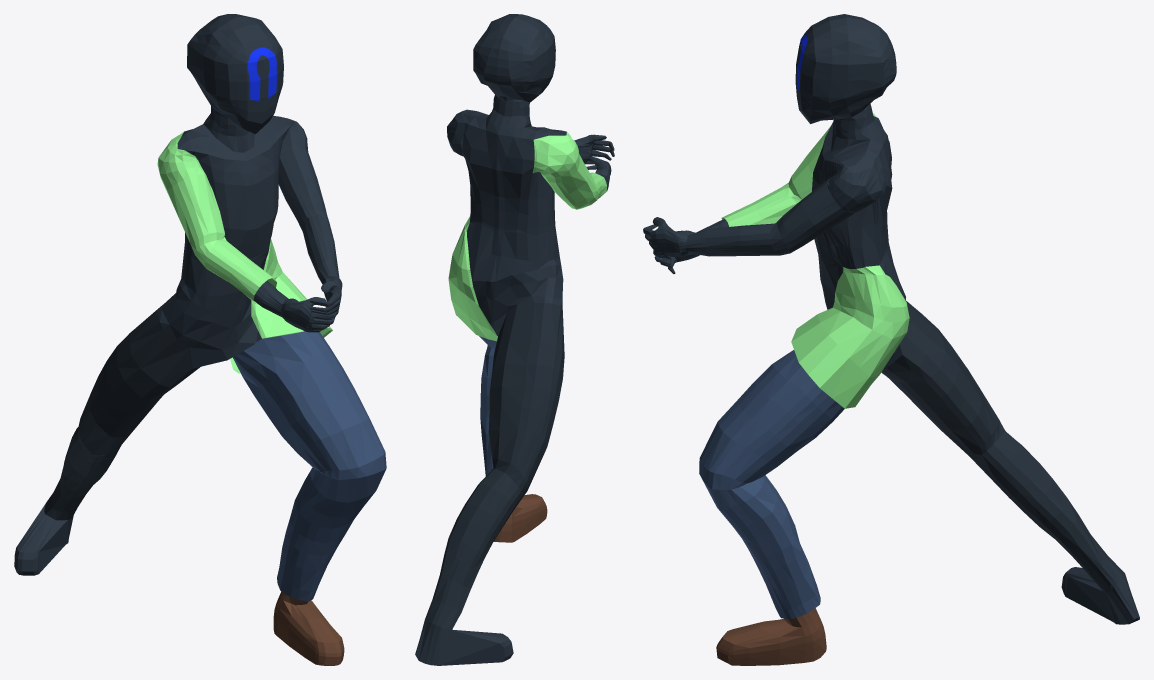
File: Mar_WB_000017.obj
3 renders of one model, left to right at view 1: azimuth 30°, elevation 25°; view 2: azimuth 150°, elevation 25°; view 3: azimuth 270°, elevation 25°, orthographic. The views are drawn at different scales.
Parts seen in each view (by area): view 1: Cube.000_Cube.001; view 2: Cube.000_Cube.001; view 3: Cube.000_Cube.001.
Part boxes in pixels (x1,y1,x2,y2): Cube.000_Cube.001: (14, 14, 386, 665); Cube.000_Cube.001: (415, 14, 614, 665); Cube.000_Cube.001: (643, 14, 1139, 665).
Bounding box in the file's own units: 1.15 × 3.48 × 2.51.
